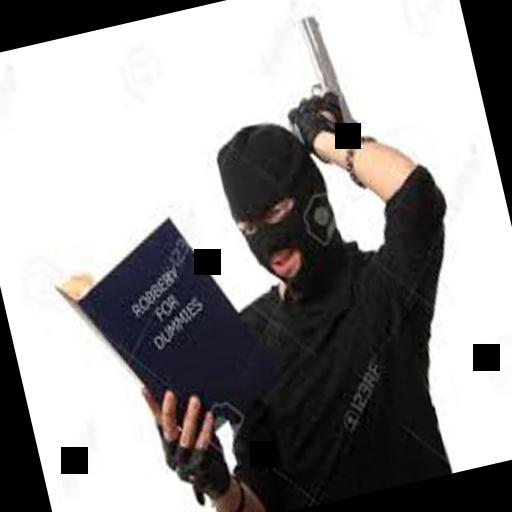Handgun: (264, 6, 364, 158)
